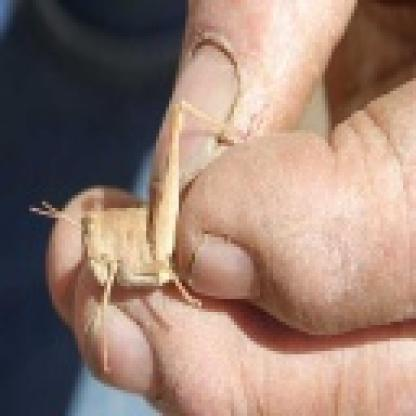grasshopper: (54, 102, 226, 326)
